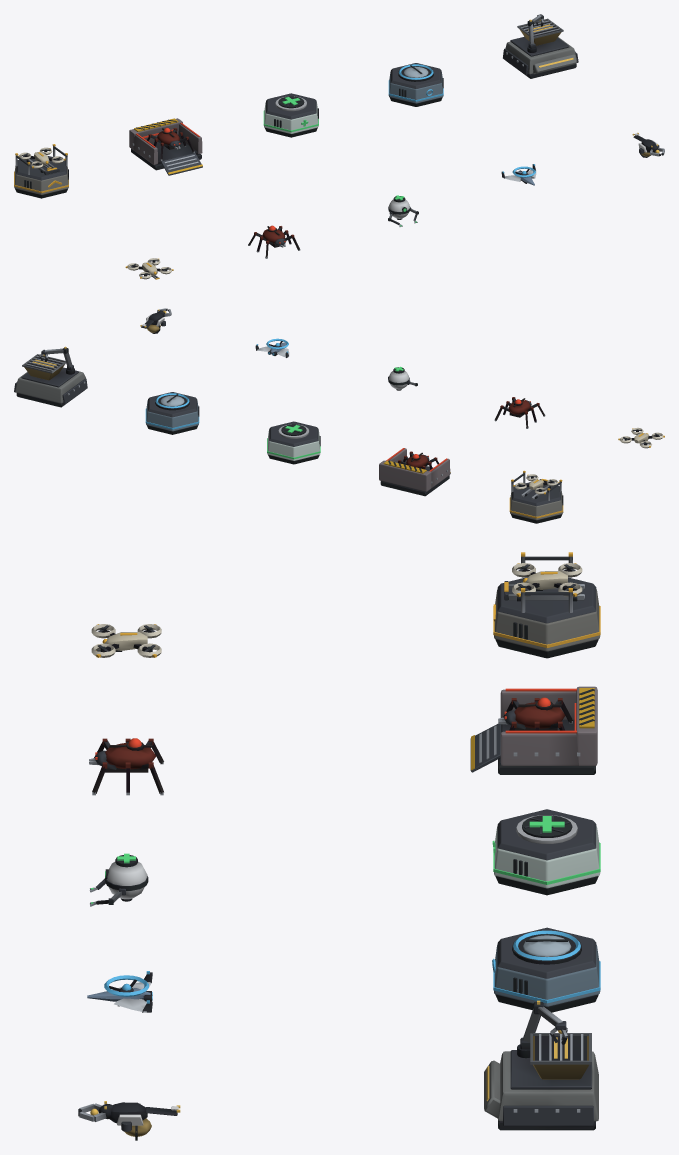
The model's file is drones.glb.
3 views of the same model, one above another, from view 1: azimuth 30°, elevation 25°; view 2: azimuth 150°, elevation 25°; view 3: azimuth 270°, elevation 25° (orthographic). The views are drawn at different scales.
Visible parts, largest first — view 1: pod_scarab, pod_magpie, pod_sparrow, pod_aegis, pod_mender, drone_scarab, drone_mender, drone_sparrow, drone_magpie, drone_aegis; view 2: pod_magpie, pod_scarab, pod_sparrow, pod_aegis, pod_mender, drone_scarab, drone_sparrow, drone_magpie, drone_mender, drone_aegis; view 3: pod_magpie, pod_scarab, pod_sparrow, pod_mender, pod_aegis, drone_scarab, drone_magpie, drone_sparrow, drone_mender, drone_aegis.
Part boxes in pixels (x1,y1,x2,y2): pod_scarab: (129, 118, 202, 175); pod_magpie: (503, 14, 578, 78); pod_sparrow: (14, 144, 68, 198); pod_aegis: (388, 63, 443, 106); pod_mender: (263, 93, 318, 137); drone_scarab: (248, 225, 300, 258); drone_mender: (388, 195, 418, 226); drone_sparrow: (125, 258, 173, 279); drone_magpie: (632, 132, 664, 157); drone_aegis: (501, 164, 536, 185); pod_magpie: (14, 346, 87, 407); pod_scarab: (379, 448, 450, 496); pod_sparrow: (509, 470, 563, 523); pod_aegis: (145, 392, 199, 434); pod_mender: (267, 421, 320, 464); drone_scarab: (494, 397, 545, 428); drone_sparrow: (618, 427, 664, 448); drone_magpie: (140, 308, 171, 333); drone_mender: (388, 366, 417, 390); drone_aegis: (255, 338, 289, 357); pod_magpie: (484, 1000, 598, 1130); pod_scarab: (470, 686, 597, 774); pod_sparrow: (493, 552, 600, 658); pod_mender: (492, 809, 600, 895); pod_aegis: (492, 927, 600, 1012); drone_scarab: (89, 738, 163, 795); drone_magpie: (78, 1101, 180, 1140); drone_sparrow: (91, 624, 161, 657); drone_mender: (89, 853, 148, 906); drone_aegis: (87, 971, 152, 1012).
Size of the model in its own units: 17.74 by 1.99 by 7.45.
